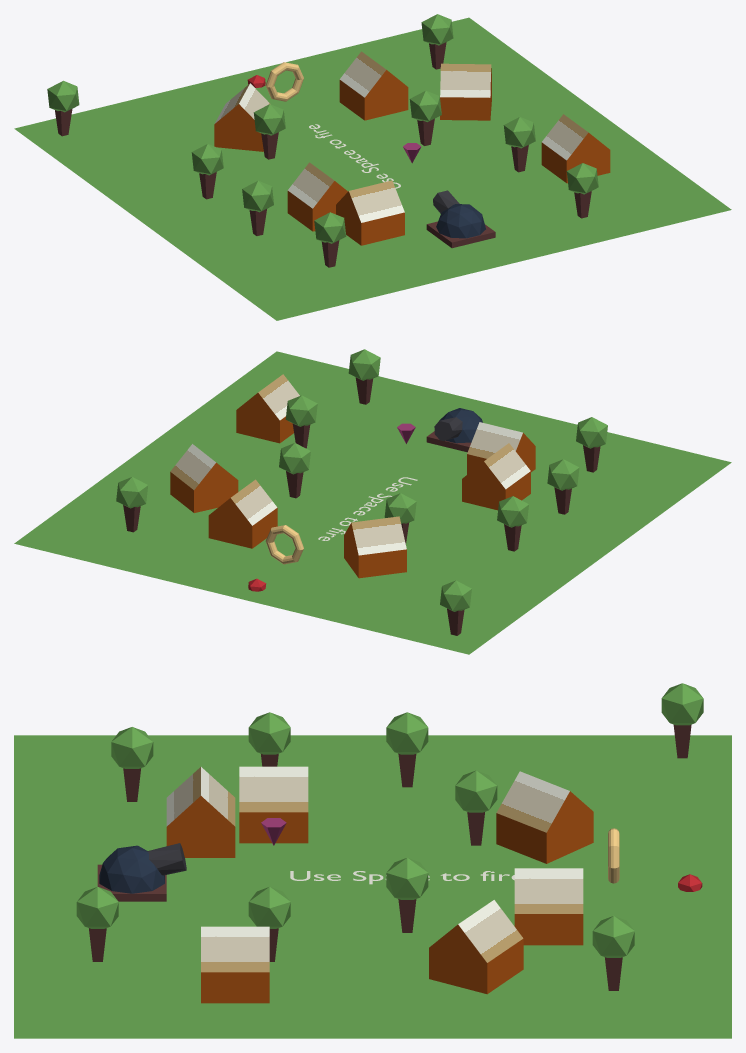
File: level0a.gltf
3 views of the same model, one above another, from view 1: azimuth 30°, elevation 25°; view 2: azimuth 150°, elevation 25°; view 3: azimuth 270°, elevation 25° (orthographic). The views are drawn at different scales.
Visible parts, largest first — view 1: Plane, Cube.001, Cube.005, Cube.003, Cube, Cube.004, Cube.002, canon, Cube.013, Cube.007, Cube.008, Cube.010 (+6 smaller); view 2: Plane, Cube.004, Cube.005, Cube.003, Cube.002, Cube, Cube.001, canon, Cube.007, Cube.009, Cube.012, Cube.015 (+7 smaller); view 3: Plane, Cube.004, Cube.003, Cube, Cube.005, Cube.001, Cube.002, canon, Cube.010, Cube.007, Cube.008, Cube.013 (+7 smaller).
Boxes of the visible parts, <box> form: Plane: <box>14,17,731,320</box>; Cube.001: <box>336,180,404,245</box>; Cube.005: <box>339,51,408,120</box>; Cube.003: <box>440,63,491,120</box>; Cube: <box>541,114,610,183</box>; Cube.004: <box>214,83,270,151</box>; Cube.002: <box>287,162,347,231</box>; canon: <box>426,190,495,248</box>; Cube.013: <box>253,104,285,159</box>; Cube.007: <box>47,80,79,136</box>; Cube.008: <box>409,90,441,145</box>; Cube.010: <box>191,144,223,199</box>; Plane: <box>14,351,731,654</box>; Cube.004: <box>344,516,406,578</box>; Cube.005: <box>208,479,277,548</box>; Cube.003: <box>170,444,238,512</box>; Cube.002: <box>462,443,530,510</box>; Cube: <box>236,374,299,443</box>; Cube.001: <box>467,422,535,474</box>; canon: <box>426,408,482,452</box>; Cube.007: <box>440,580,471,635</box>; Cube.009: <box>576,417,607,472</box>; Cube.012: <box>547,459,579,514</box>; Cube.015: <box>116,477,148,532</box>; Plane: <box>14,735,731,1038</box>; Cube.004: <box>496,771,593,863</box>; Cube.003: <box>429,900,523,994</box>; Cube: <box>201,926,269,1003</box>; Cube.005: <box>514,868,583,945</box>; Cube.001: <box>166,767,235,857</box>; Cube.002: <box>239,766,308,843</box>; canon: <box>97,843,186,901</box>; Cube.010: <box>386,712,428,787</box>; Cube.007: <box>661,683,703,758</box>; Cube.008: <box>386,857,428,932</box>; Cube.013: <box>455,770,497,845</box>.
Bounding box in the file's own units: 20.87 × 3.09 × 20.87.
1 material, 1 textured.
